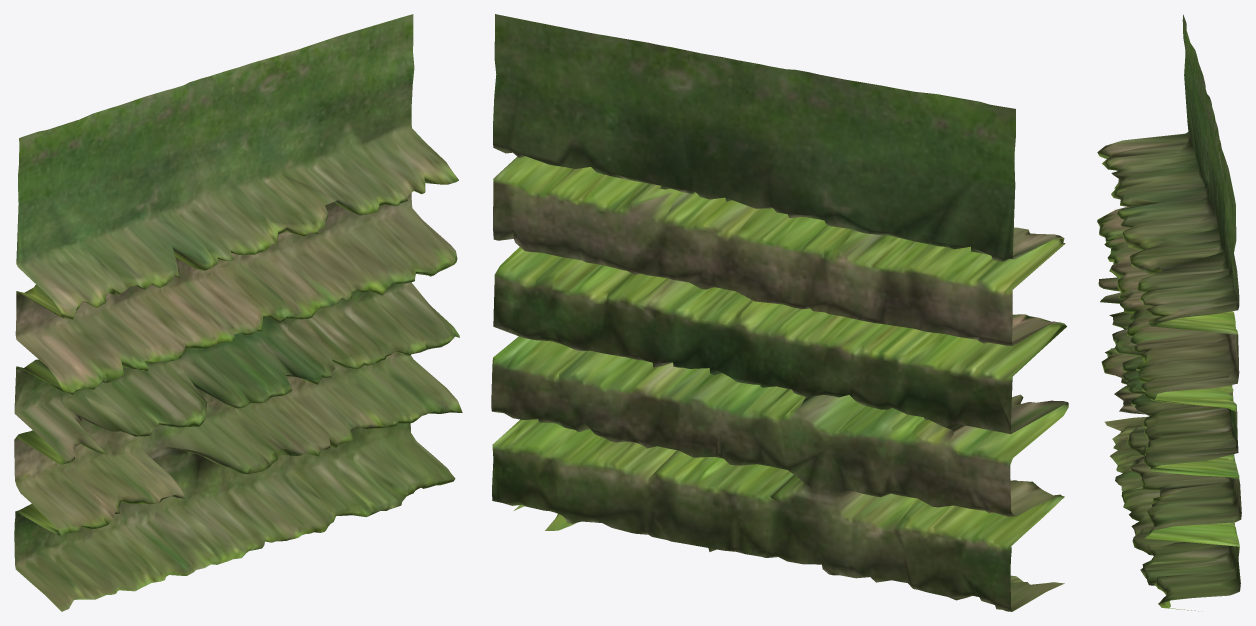
File: map_260_70.obj
The picture shows the model from 3 angles, left to right: view 1: azimuth 30°, elevation 25°; view 2: azimuth 150°, elevation 25°; view 3: azimuth 270°, elevation 25°; orthographic projection. The views are drawn at different scales.
Visible parts, largest first — view 1: map_260_70.obj; view 2: map_260_70.obj; view 3: map_260_70.obj.
Part boxes in pixels (x1=…): map_260_70.obj: x1=14, y1=14, x2=462, y2=611; map_260_70.obj: x1=491, y1=14, x2=1068, y2=611; map_260_70.obj: x1=1097, y1=14, x2=1241, y2=611.
Size of the model in its own units: 10 by 10 by 3.22.
Materials: 1 (1 with a texture image).
